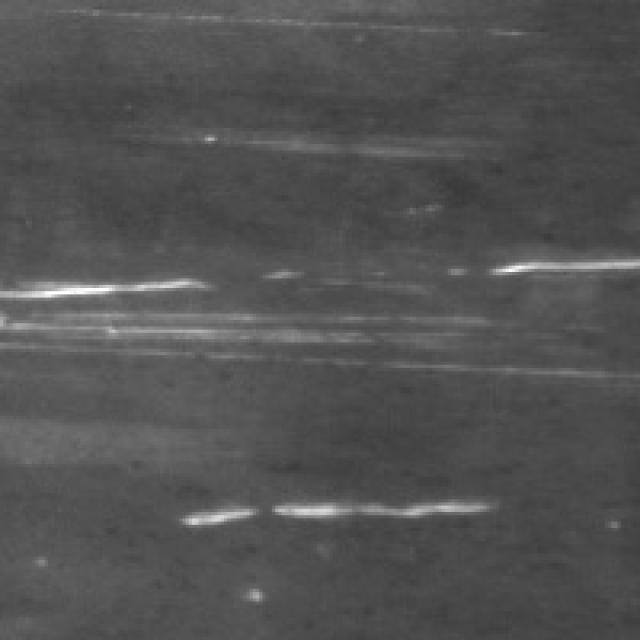scratches: (10, 275, 627, 368), (173, 483, 499, 538), (483, 240, 637, 282)
